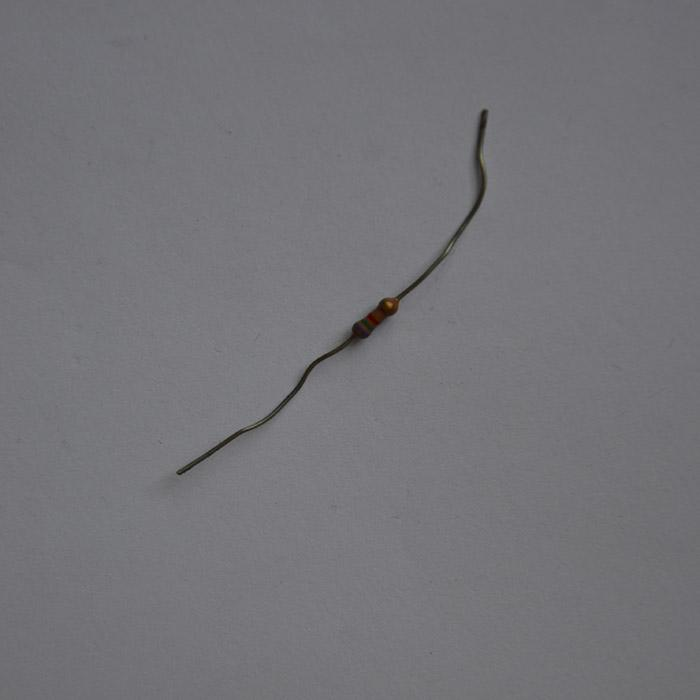resistor: (351, 295, 398, 339)
